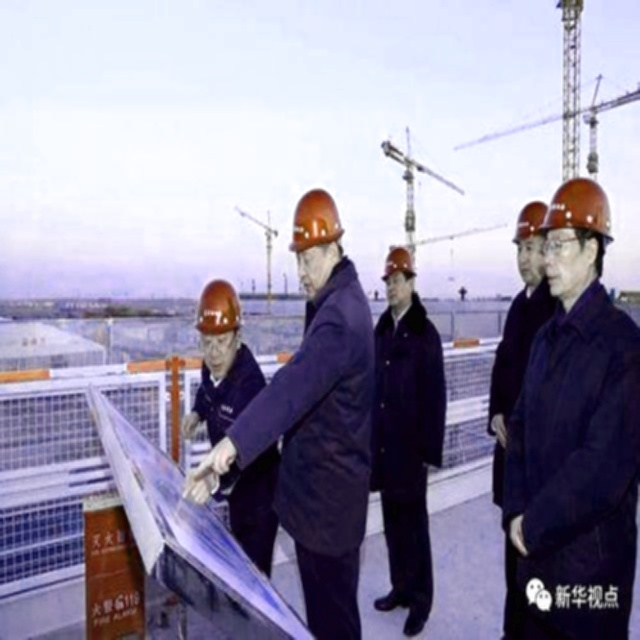Con_Casco: (294, 188, 342, 292), (200, 281, 238, 369)
Sin_Chaleco: (524, 308, 638, 569)
